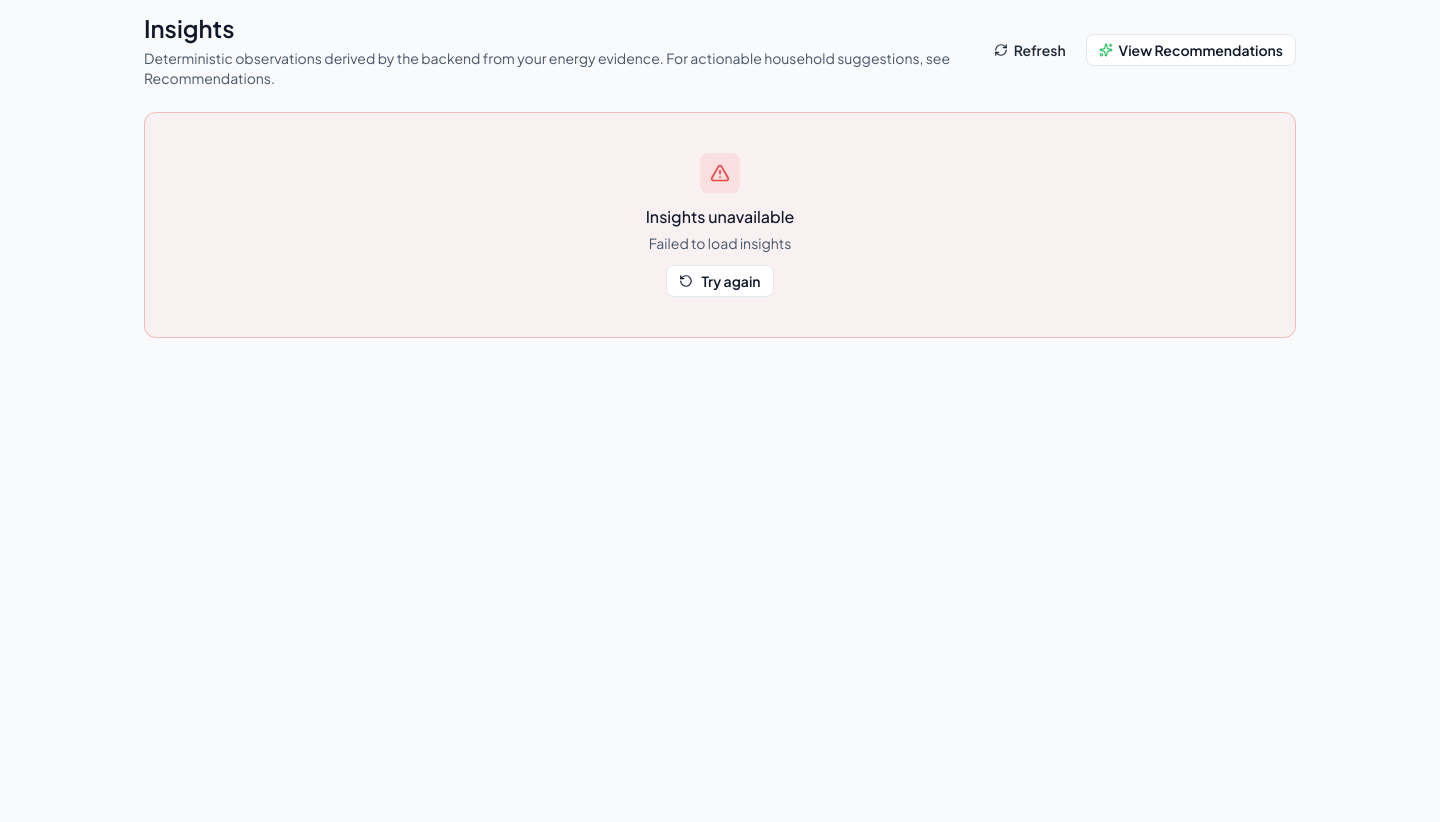
Test: InsightsPage › shows error state on failure and allows retry
Expected: the text "Insights unavailable" is shown, [646,205,794,229]
Expected: the text "Failed to load insights" is shown, [646,233,794,253]
Click the button "Try again" at (720, 281), box [666,265,774,297]
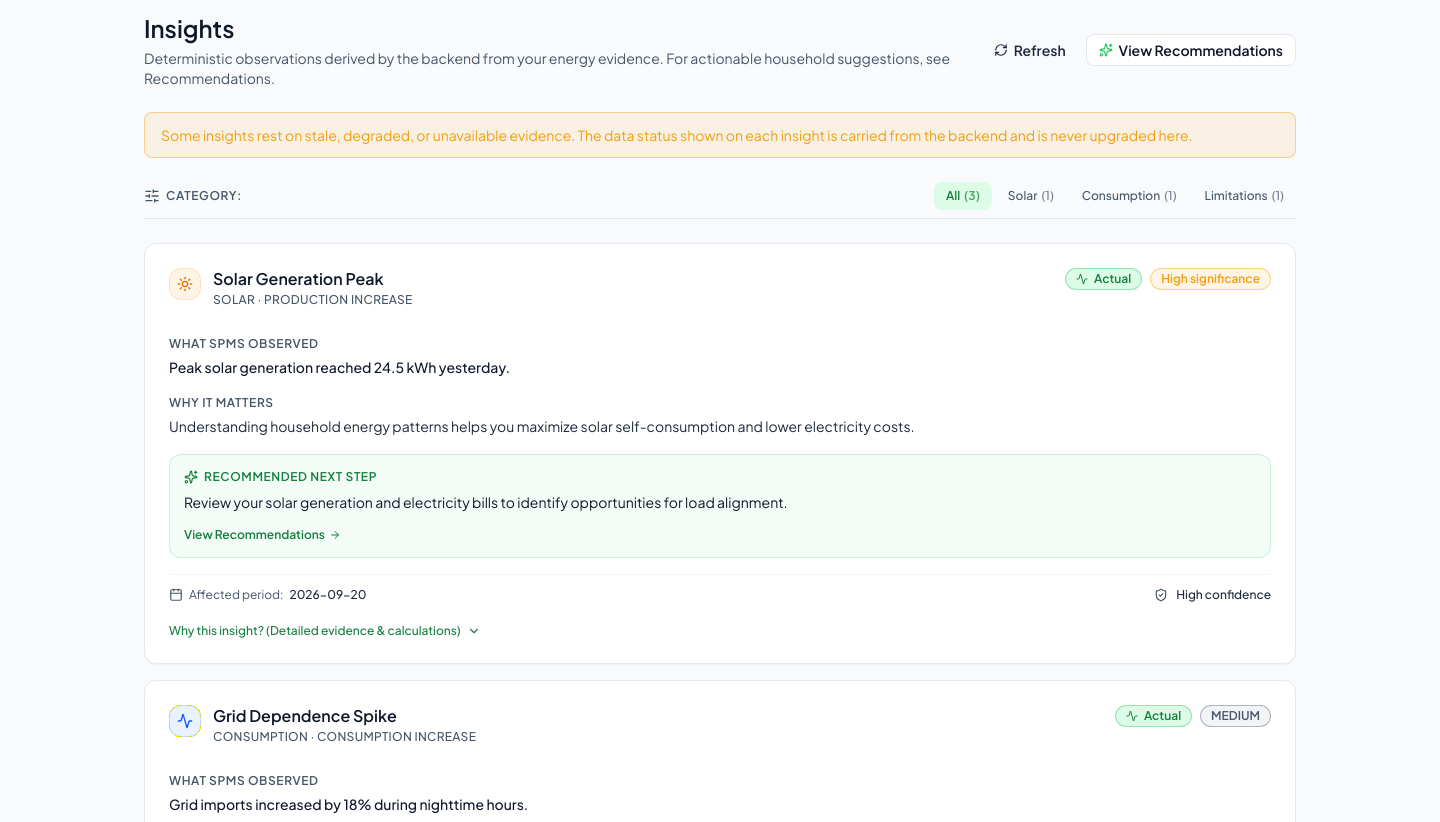
Expected: the heading "Solar Generation Peak" is shown, [213,268,413,290]
